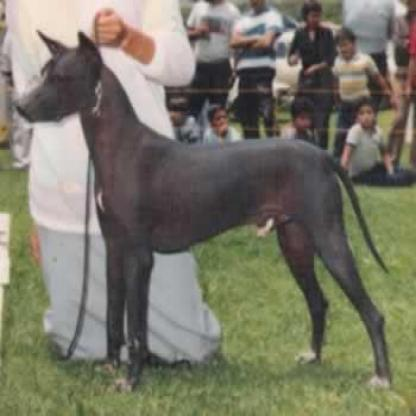Mexican_hairless: (12, 25, 391, 392)
